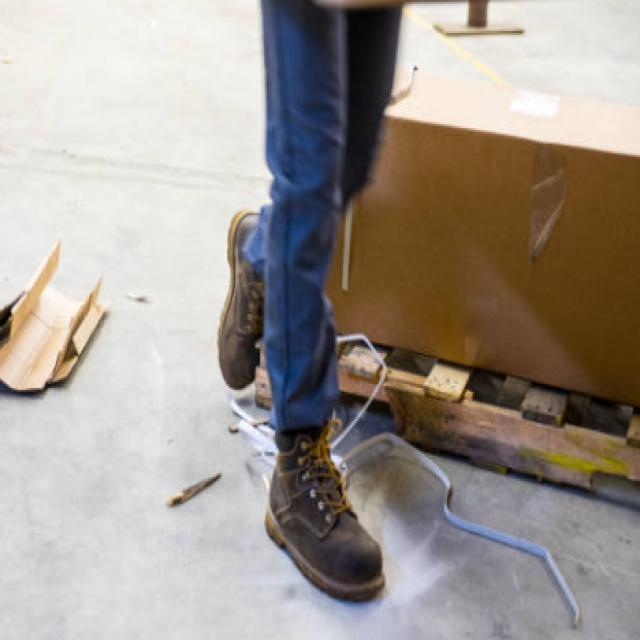shoes: (207, 200, 390, 609)
